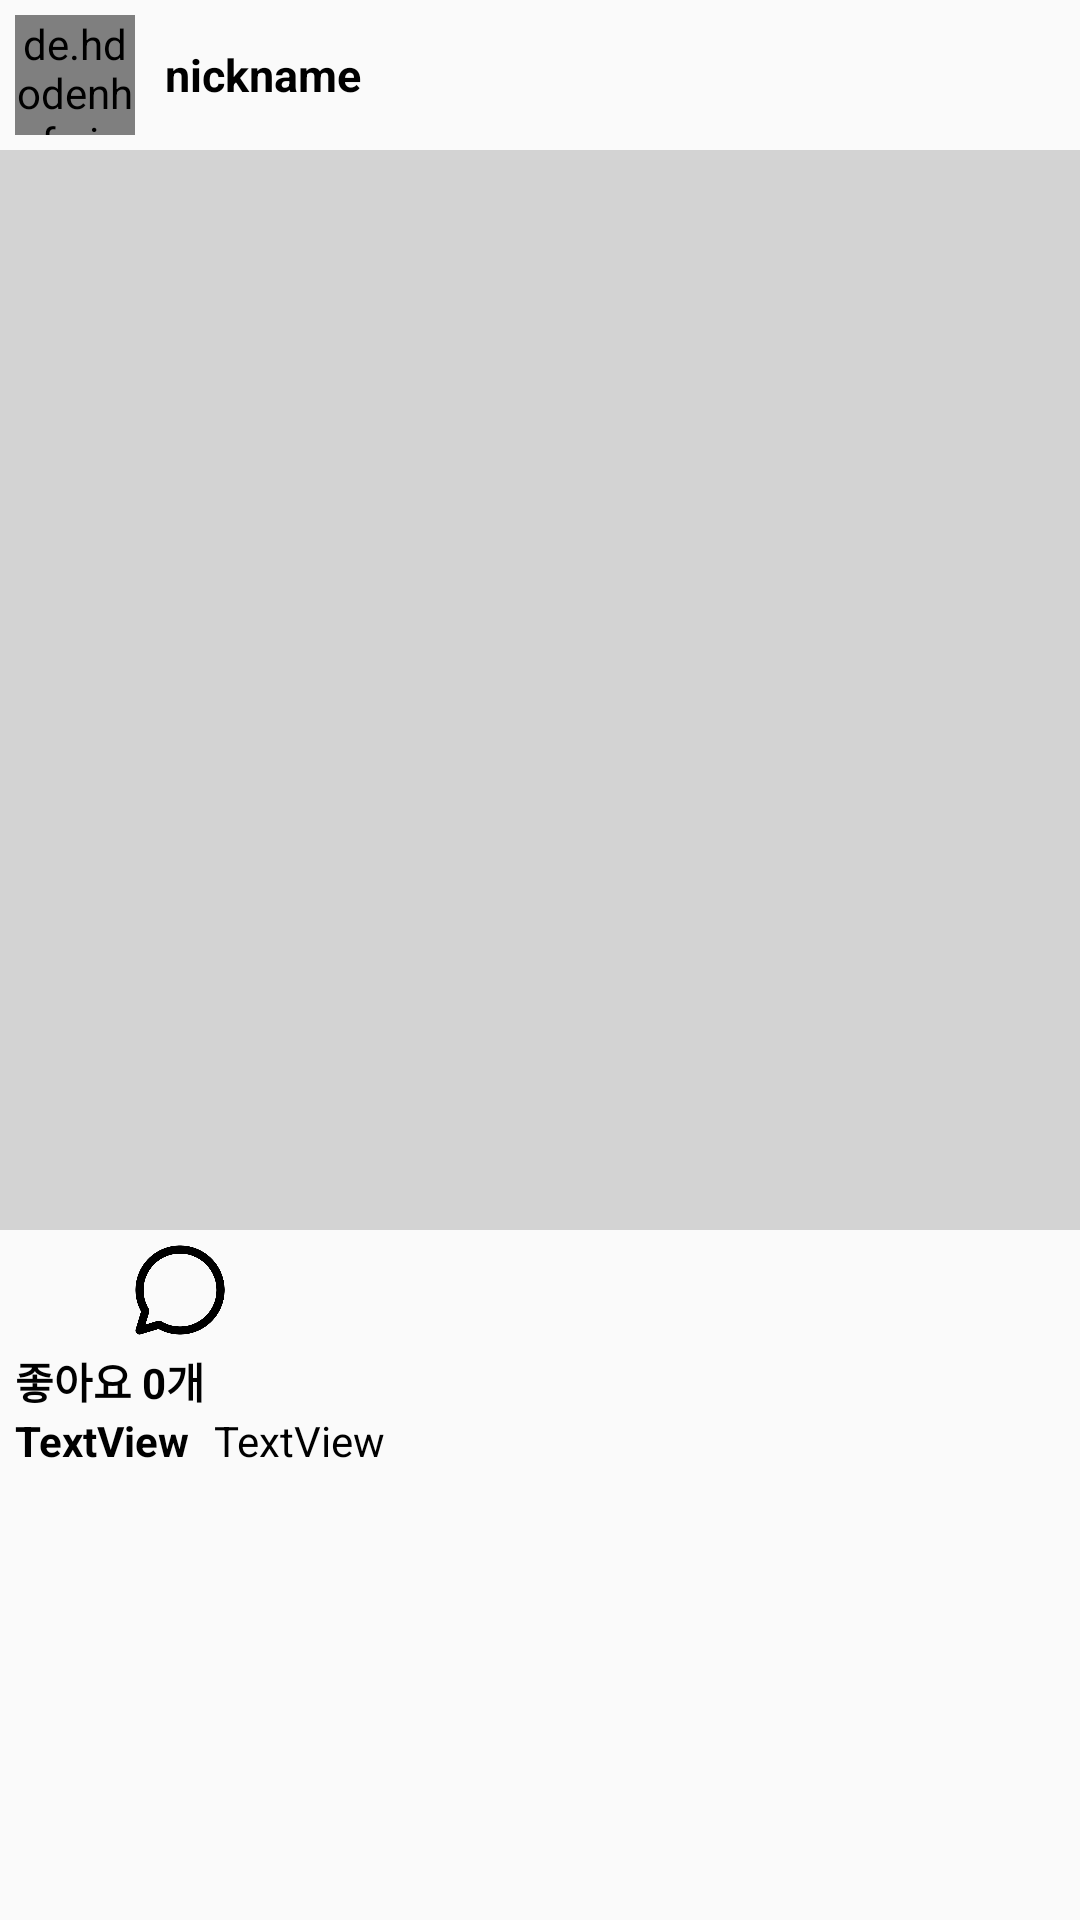

Point at icon controls on the screen. Image size 1080 x 1920, points as point (x, y).
comment: point (180, 1290)
